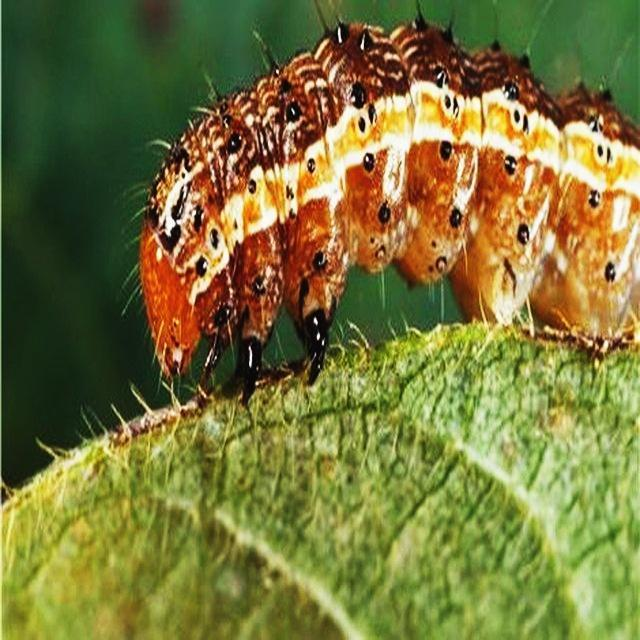gusano_cogollero: (112, 29, 640, 388)
